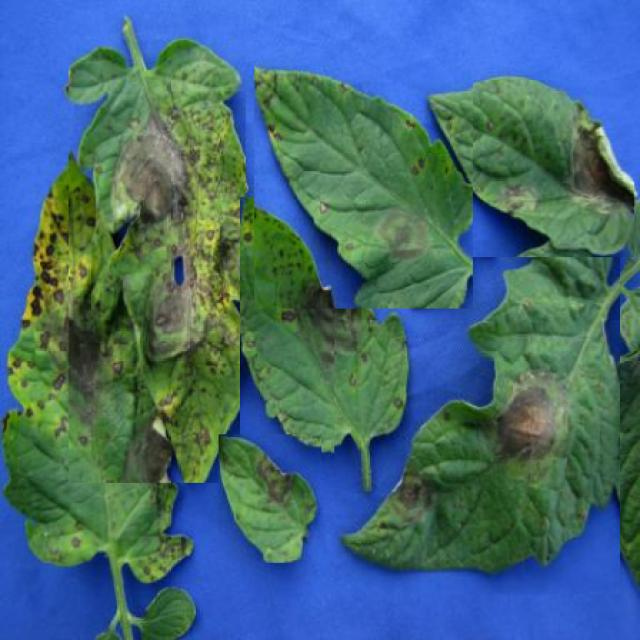Late Blight: (335, 252, 621, 594), (6, 153, 208, 584), (68, 14, 246, 483), (254, 65, 473, 309), (240, 197, 411, 453), (420, 80, 634, 257), (219, 435, 322, 564)
